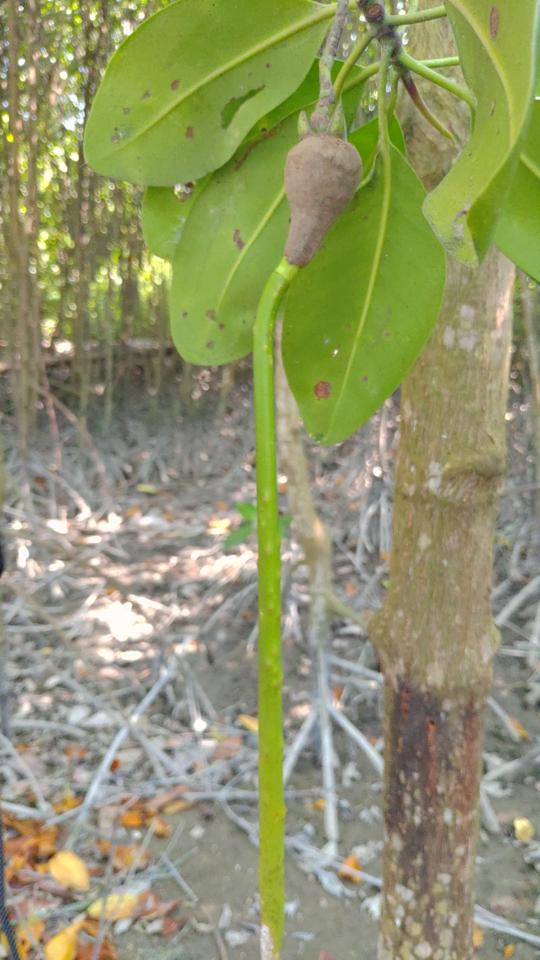setengah matang: (241, 97, 372, 953)
